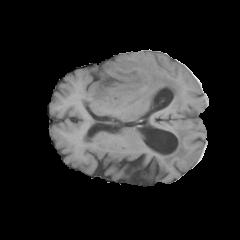glioma: (80, 58, 191, 165)
